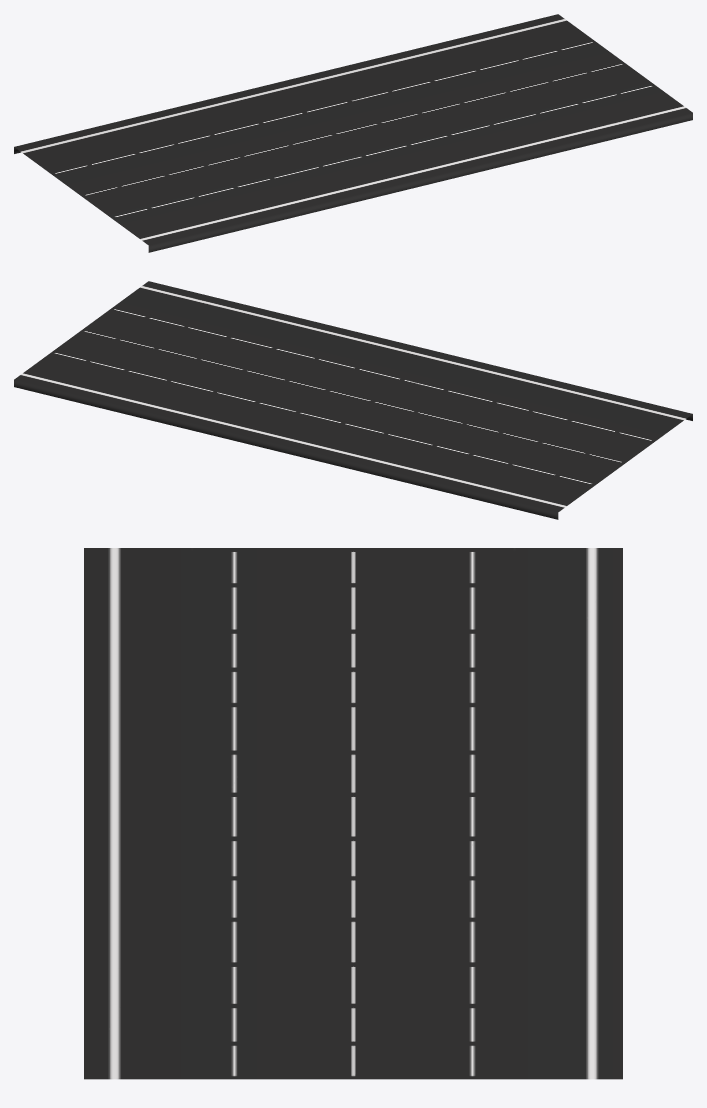
File: AStreet_1.fbx
3 renders of one model, top to bottom at view 1: azimuth 30°, elevation 25°; view 2: azimuth 150°, elevation 25°; view 3: azimuth 270°, elevation 25°, orthographic. The views are drawn at different scales.
Parts seen in each view (by area): view 1: Street_1; view 2: Street_1; view 3: Street_1.
Part boxes in pixels (left/top/right/bottom): Street_1: left=14, top=14, right=692, bottom=252; Street_1: left=14, top=281, right=692, bottom=519; Street_1: left=84, top=548, right=622, bottom=1079.
Size of the model in its own units: 59.92 by 0.7712 by 25.69.
Materials: 1 (1 with a texture image).
